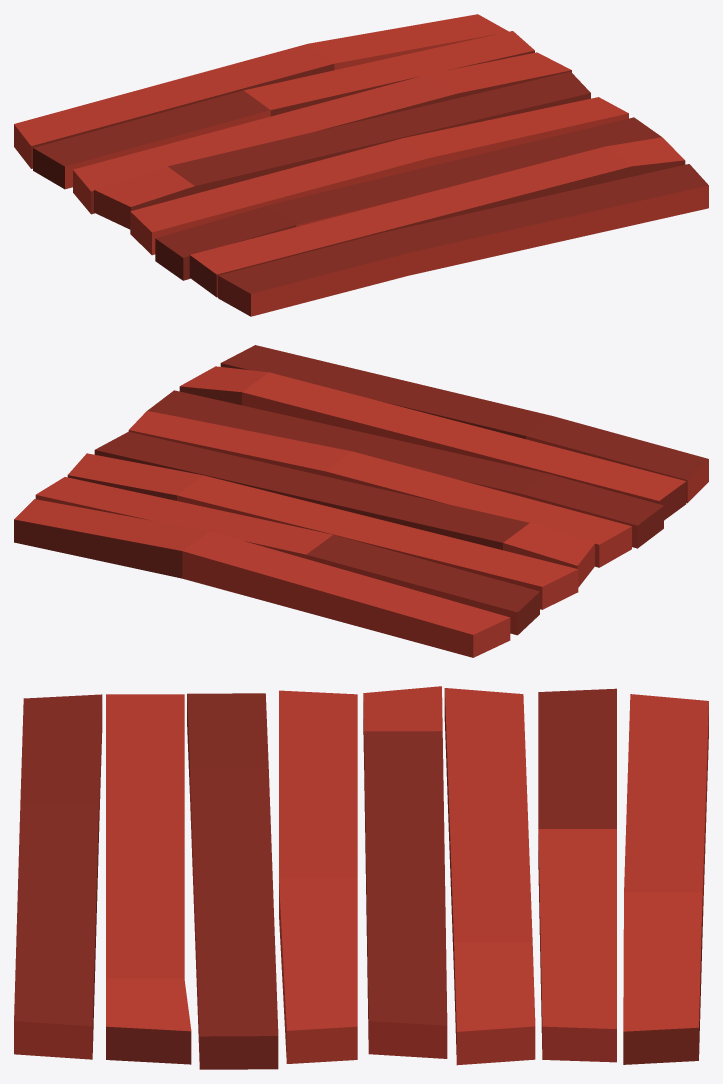
The model's file is Floor_5_Red.fbx.
The picture shows the model from 3 angles, top to bottom: view 1: azimuth 30°, elevation 25°; view 2: azimuth 150°, elevation 25°; view 3: azimuth 270°, elevation 25°; orthographic projection. The views are drawn at different scales.
Parts seen in each view (by area): view 1: Floor_5_Red_Part_1, Floor_5_Red_Part_2; view 2: Floor_5_Red_Part_1, Floor_5_Red_Part_2; view 3: Floor_5_Red_Part_1, Floor_5_Red_Part_2.
Boxes of the visible parts, left/top/right/bottom form: Floor_5_Red_Part_1: left=14, top=14, right=708, bottom=316; Floor_5_Red_Part_2: left=31, top=50, right=708, bottom=297; Floor_5_Red_Part_1: left=14, top=366, right=708, bottom=657; Floor_5_Red_Part_2: left=14, top=345, right=708, bottom=634; Floor_5_Red_Part_1: left=14, top=686, right=708, bottom=1065; Floor_5_Red_Part_2: left=14, top=688, right=702, bottom=1069.
Bounding box in the file's own units: 312 × 20.59 × 265.
